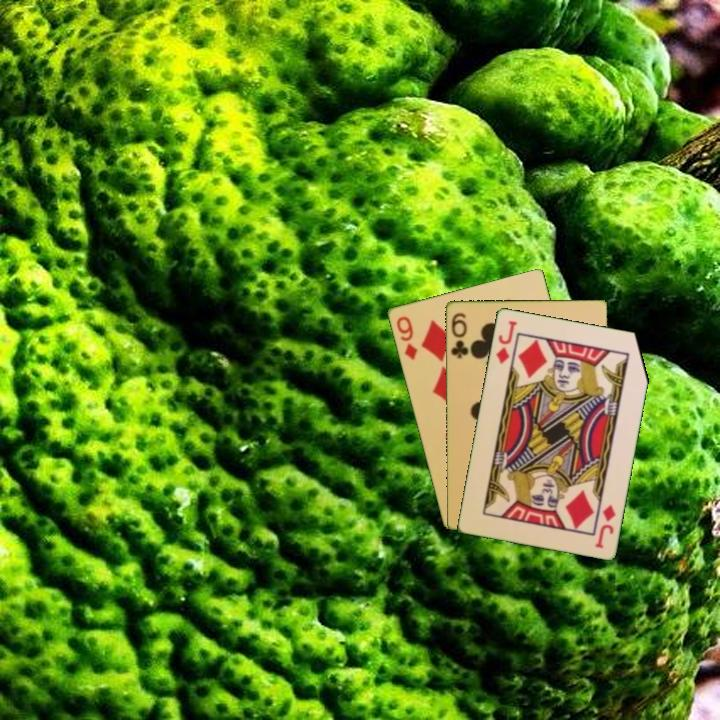6c: (447, 309, 471, 361)
9d: (392, 312, 420, 363)
Jd: (492, 317, 520, 367), (591, 501, 619, 551)
